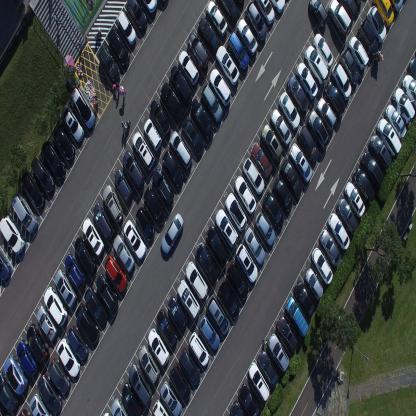car: (11, 192, 38, 234), (70, 86, 96, 129), (74, 302, 100, 344), (376, 116, 402, 158), (128, 362, 152, 406), (160, 212, 184, 256), (190, 97, 214, 141), (37, 372, 62, 414), (216, 44, 240, 87), (0, 214, 25, 255), (43, 285, 68, 326), (3, 354, 28, 395), (214, 208, 238, 250), (194, 242, 218, 284), (289, 142, 313, 184), (41, 140, 66, 180), (74, 235, 97, 278), (245, 0, 268, 43), (176, 279, 200, 320), (84, 285, 108, 326), (206, 294, 230, 335), (304, 45, 328, 86), (160, 81, 184, 122), (30, 155, 55, 194), (308, 108, 330, 152), (123, 219, 146, 261), (169, 130, 192, 172), (247, 361, 270, 403), (234, 243, 258, 283), (216, 278, 240, 318), (112, 234, 136, 274), (20, 170, 45, 208), (286, 295, 308, 338), (224, 192, 247, 233), (143, 186, 166, 227), (200, 82, 223, 123), (57, 337, 80, 378), (361, 150, 384, 191), (327, 0, 352, 37), (152, 166, 174, 208), (26, 322, 48, 364), (185, 260, 208, 300), (92, 202, 115, 242), (280, 158, 303, 198), (122, 150, 145, 190), (132, 131, 155, 171), (169, 65, 192, 105), (107, 27, 130, 67), (241, 156, 265, 194), (61, 105, 85, 143), (392, 86, 416, 124), (234, 173, 256, 214), (278, 90, 300, 131), (138, 344, 160, 385), (293, 279, 315, 320), (267, 332, 289, 373), (95, 273, 118, 312), (286, 74, 309, 113), (178, 347, 201, 386), (147, 327, 170, 366), (148, 98, 171, 137), (54, 269, 77, 308), (47, 357, 71, 394), (205, 226, 227, 266), (226, 260, 248, 300), (82, 217, 104, 257), (261, 122, 283, 162), (270, 107, 292, 147), (182, 115, 204, 155), (209, 67, 231, 107), (16, 338, 38, 378), (257, 349, 279, 389), (52, 123, 75, 161), (327, 212, 350, 250), (102, 184, 123, 225), (170, 362, 192, 401), (162, 149, 184, 188), (187, 32, 209, 71), (227, 32, 249, 71), (236, 18, 258, 57), (104, 255, 127, 292), (205, 0, 228, 37), (368, 134, 392, 169), (244, 227, 266, 265), (296, 62, 318, 100), (323, 80, 345, 118), (356, 18, 378, 56), (198, 15, 220, 53), (98, 44, 120, 82), (36, 305, 58, 343), (353, 167, 375, 205), (344, 180, 366, 218), (311, 248, 333, 286), (276, 314, 298, 352), (64, 253, 86, 290), (188, 331, 210, 368), (385, 103, 407, 140), (251, 141, 272, 179), (156, 309, 177, 347), (0, 370, 19, 412), (337, 197, 358, 235), (198, 314, 220, 350), (263, 191, 284, 228), (312, 31, 333, 68), (339, 48, 360, 85), (366, 6, 387, 43), (160, 380, 182, 415), (67, 325, 89, 360), (238, 382, 261, 415), (254, 210, 275, 246), (316, 97, 337, 133), (178, 50, 199, 86), (298, 125, 318, 162), (332, 62, 352, 99), (135, 205, 155, 242), (320, 229, 340, 266), (273, 176, 293, 212), (348, 35, 368, 71), (116, 10, 136, 46), (126, 0, 148, 32), (121, 382, 142, 415), (304, 266, 324, 300), (372, 0, 394, 30), (114, 168, 132, 204), (168, 295, 186, 330), (144, 117, 162, 152), (308, 0, 327, 29), (402, 74, 416, 112), (254, 0, 275, 25), (217, 0, 239, 23), (29, 393, 52, 415), (339, 0, 357, 20), (110, 397, 128, 415), (0, 253, 12, 280), (152, 398, 169, 416), (137, 0, 158, 14), (269, 0, 285, 15), (230, 400, 244, 416), (408, 56, 416, 80), (390, 0, 404, 13), (16, 408, 31, 416), (102, 410, 111, 415)
